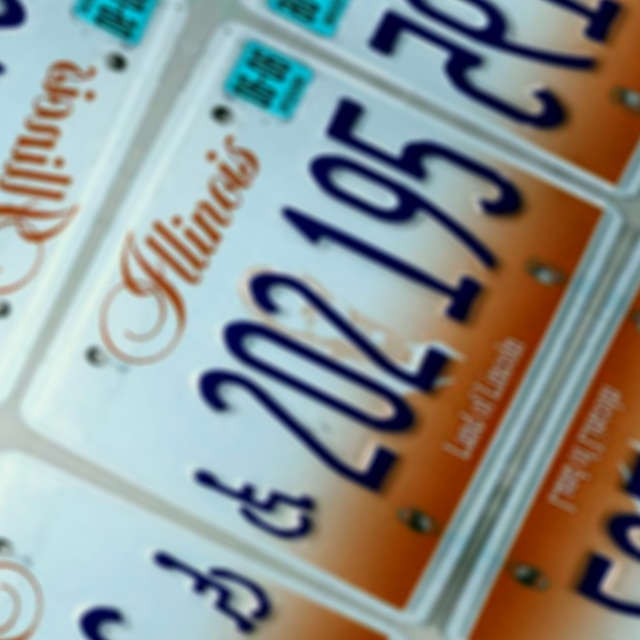ISA: (181, 443, 327, 550), (135, 535, 281, 640), (574, 639, 640, 640)
